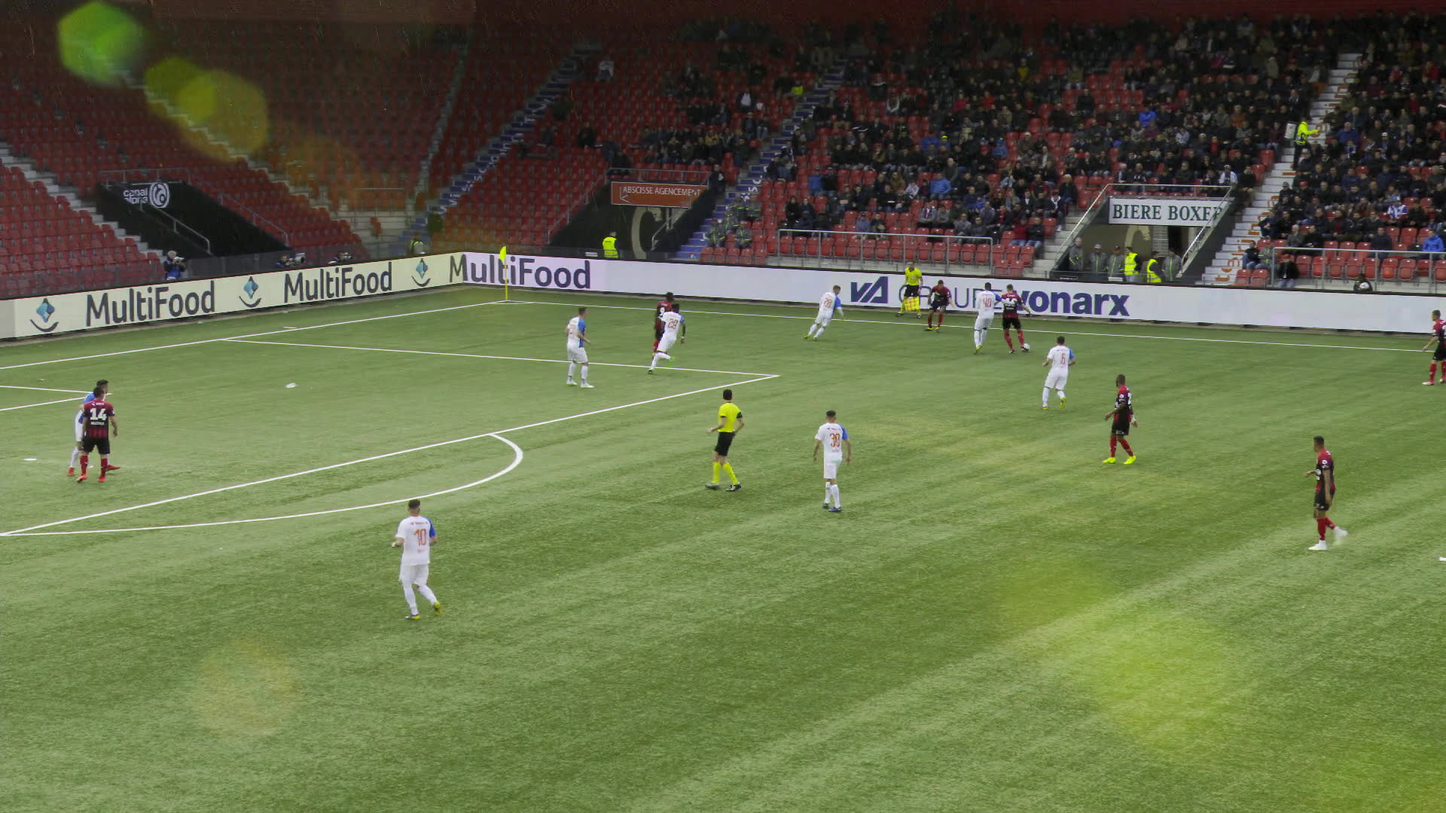ball: (1020, 343, 1028, 352)
player: (390, 495, 438, 623), (1294, 436, 1347, 550), (60, 382, 107, 477), (69, 387, 113, 484), (808, 410, 847, 511), (965, 285, 1011, 357), (648, 300, 685, 376), (1100, 373, 1130, 464), (991, 285, 1029, 355), (1038, 334, 1072, 412), (559, 306, 590, 387), (1415, 309, 1443, 385), (647, 292, 675, 359), (805, 284, 837, 339), (920, 278, 951, 332)
referee: (700, 391, 747, 492), (895, 258, 920, 318)
